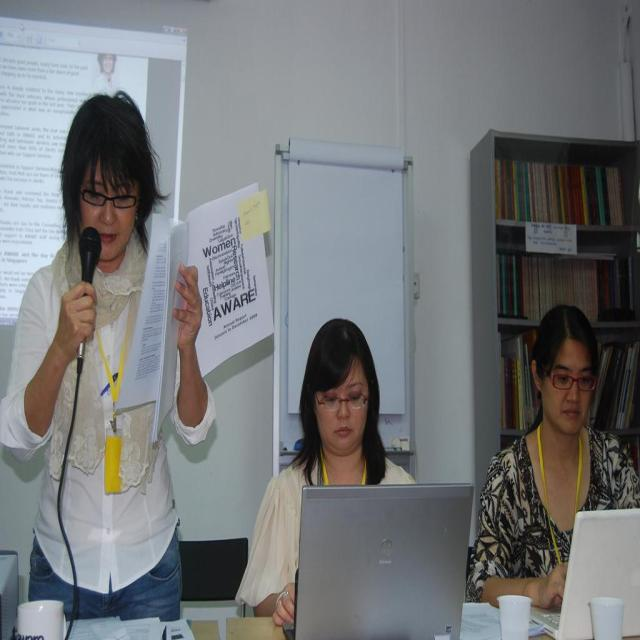glasses: (82, 192, 137, 209), (321, 392, 367, 412), (553, 373, 597, 392)
laptop: (297, 487, 475, 637)
